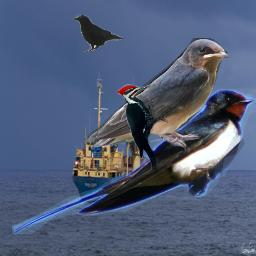Crow: (72, 14, 123, 52)
Swallow: (10, 89, 256, 234), (87, 38, 229, 153)
Woodpecker: (117, 83, 168, 170)
